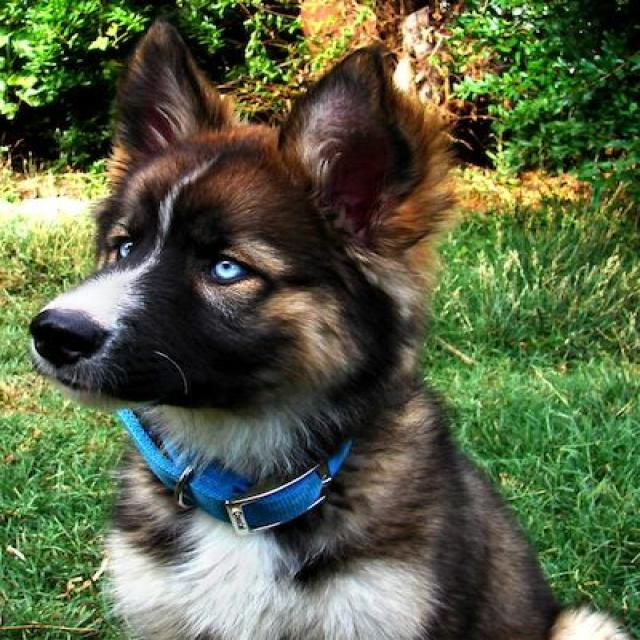dog: (52, 32, 457, 471)
